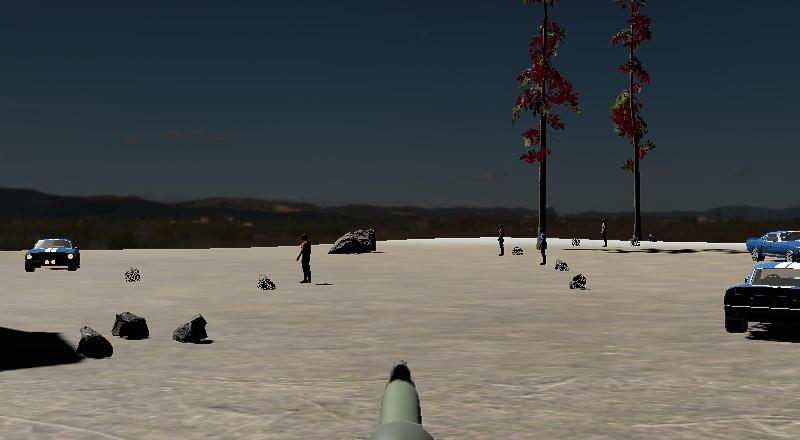Human: (294, 230, 315, 287)
car: (721, 260, 800, 336), (22, 234, 83, 275), (743, 227, 800, 264), (743, 227, 800, 263)
